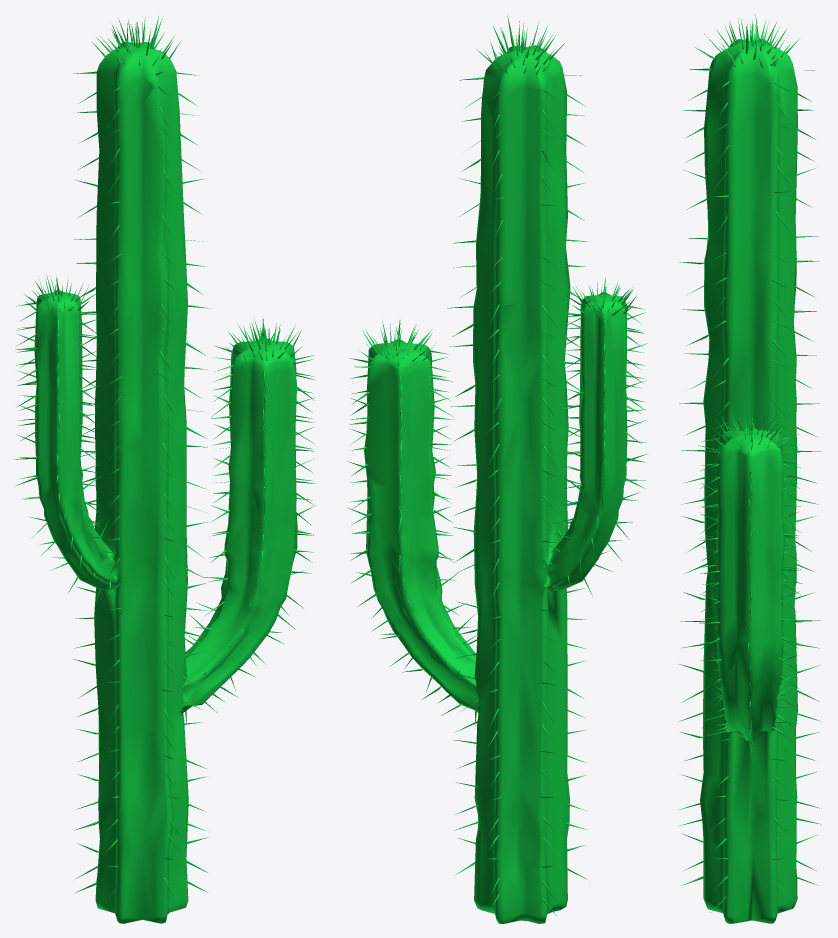
The model's file is kaktus-transformed.glb.
3 renders of one model, left to right at view 1: azimuth 30°, elevation 25°; view 2: azimuth 150°, elevation 25°; view 3: azimuth 270°, elevation 25°, orthographic.
Parts seen in each view (by area): view 1: node_id147; view 2: node_id147; view 3: node_id147.
Boxes of the visible parts, x1,y1,x2,y2 form: node_id147: (14, 16, 315, 923); node_id147: (347, 15, 647, 923); node_id147: (678, 14, 821, 923).
Bounding box in the file's own units: 0.1815 × 0.5118 × 0.0762.
Materials: 1 (1 with a texture image).
